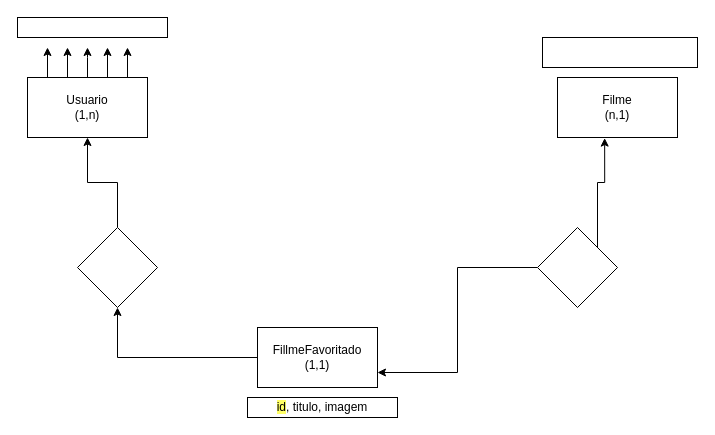
Some shapes in this 715 by 435 pixel diagram are drawn without their labels. The shapes that lost their labels are listed below. From the top down, each one's centre as x and y in pixels, then its label:
pixel 92 27: id , cpf, nome, email, senha
pixel 620 52: cod_filme , titulo, imagem, descricao, genero
